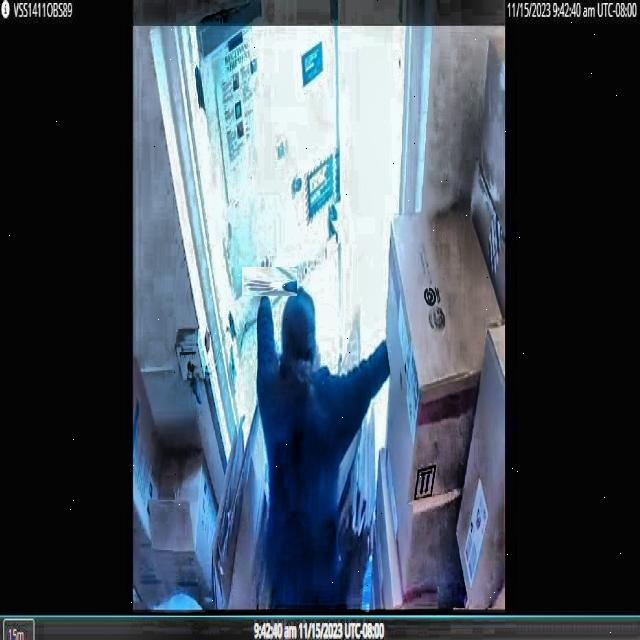gloved: (249, 260, 291, 303)
